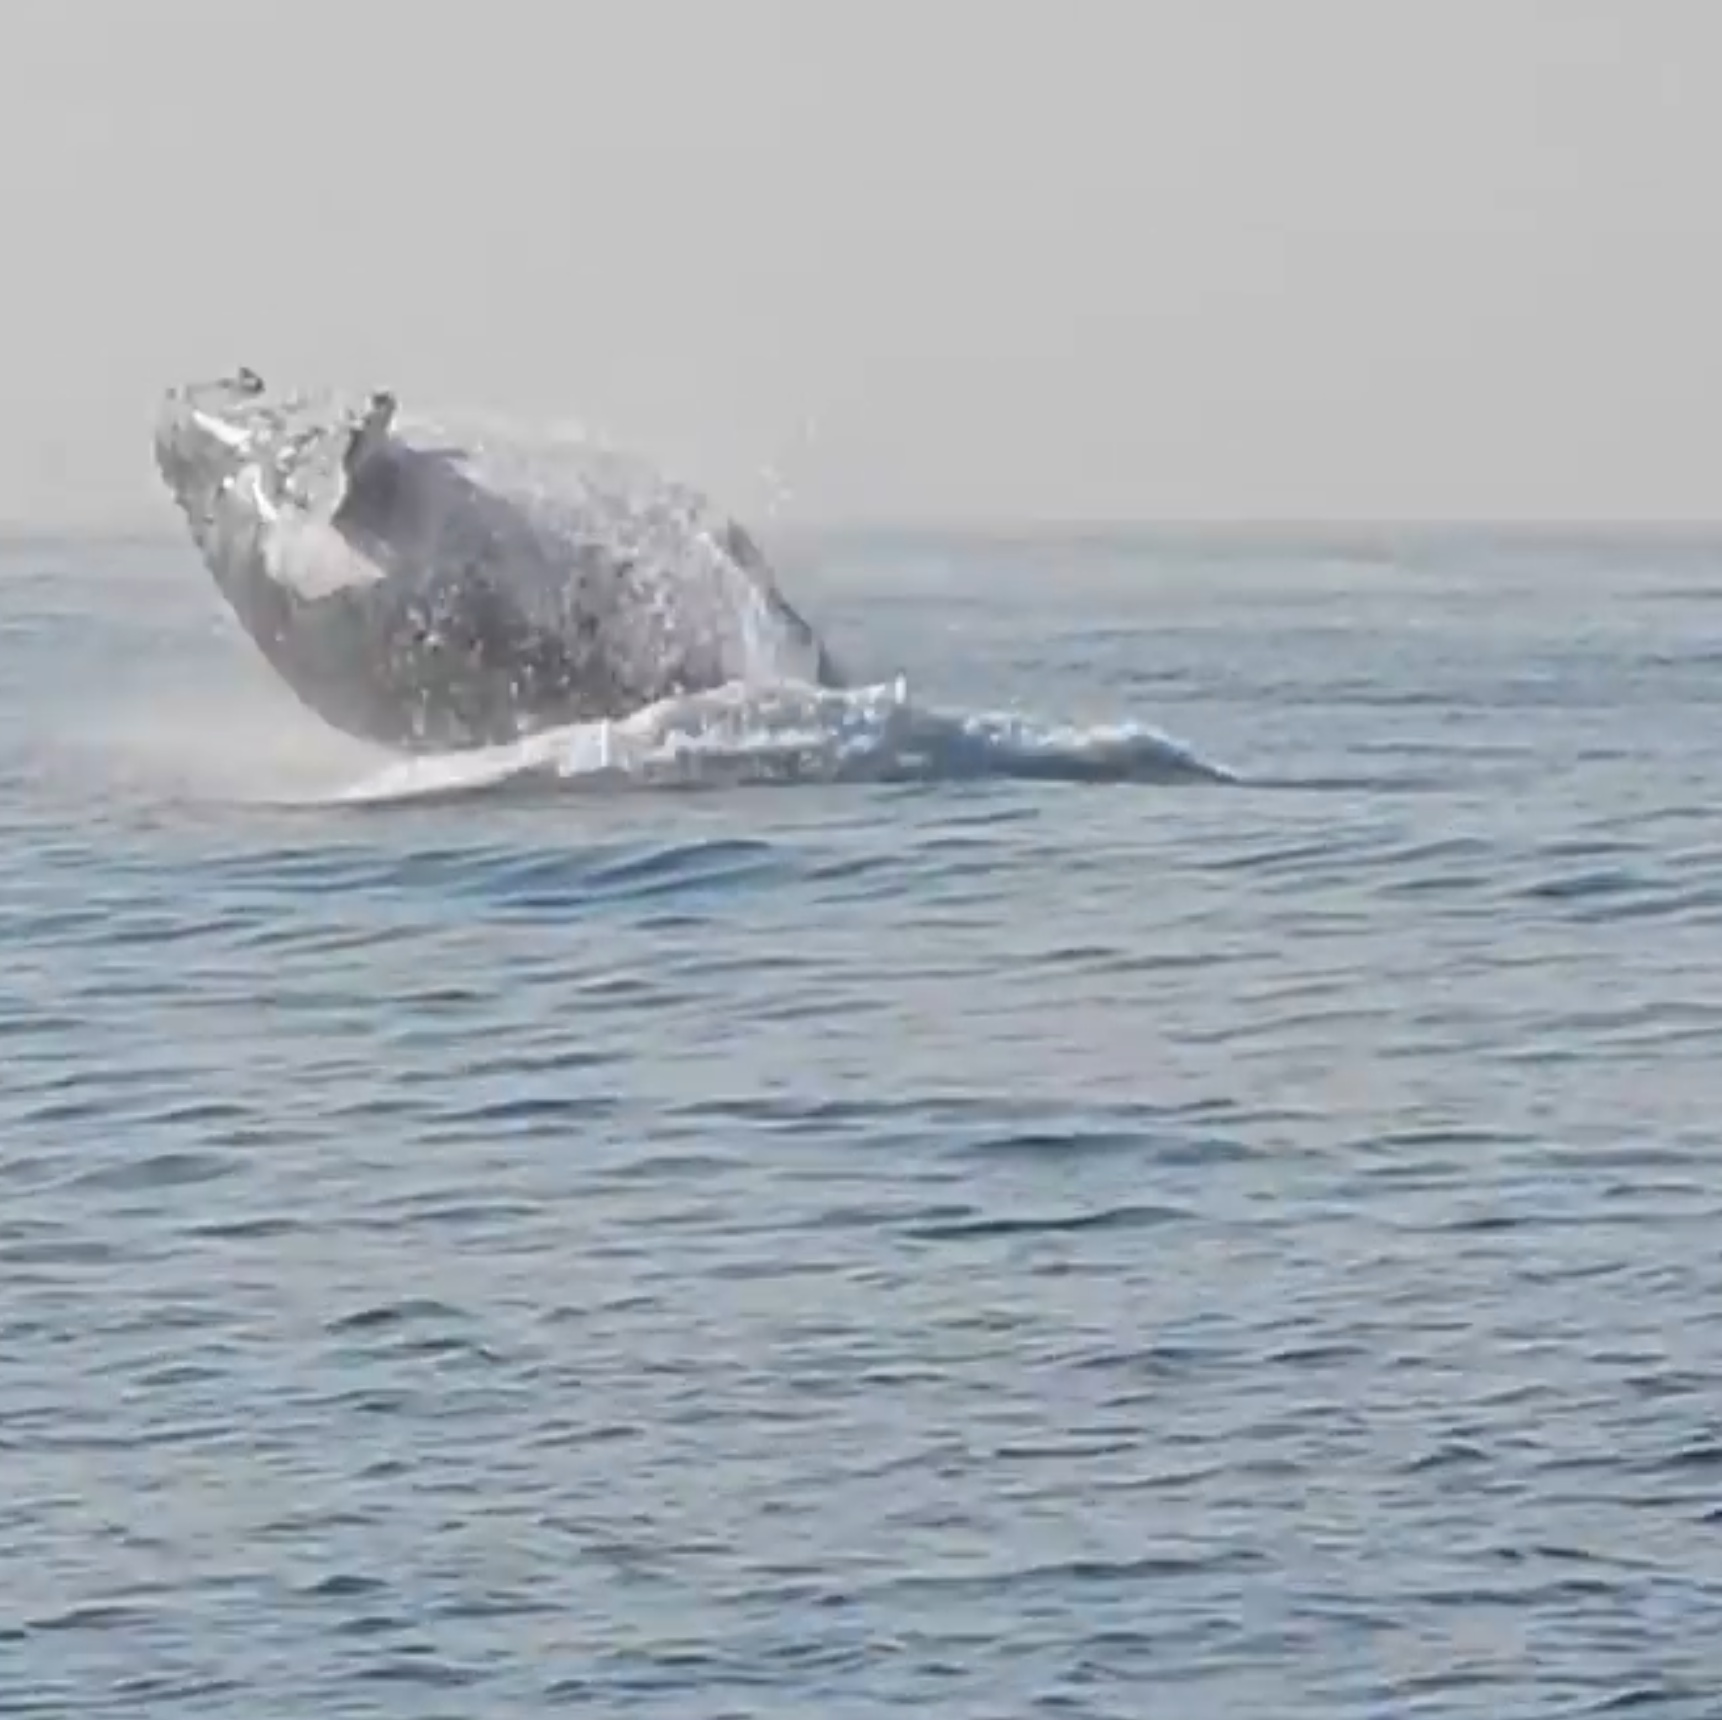humpback: (156, 376, 854, 781)
